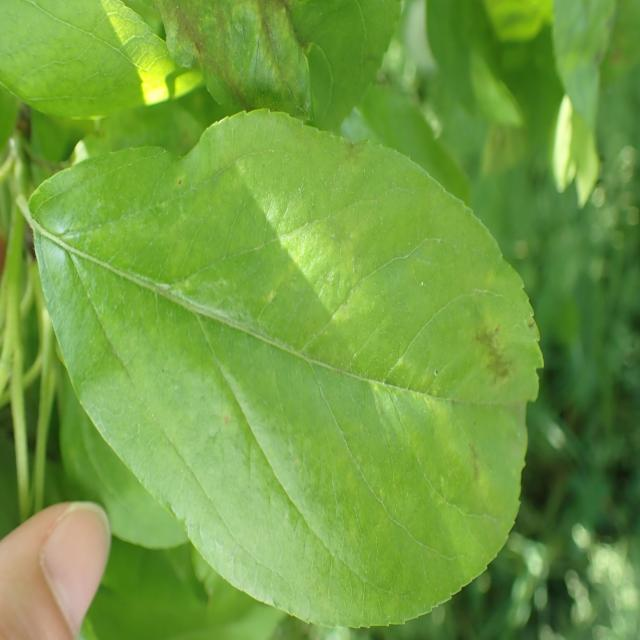scab: (122, 135, 537, 521), (144, 0, 331, 102)
